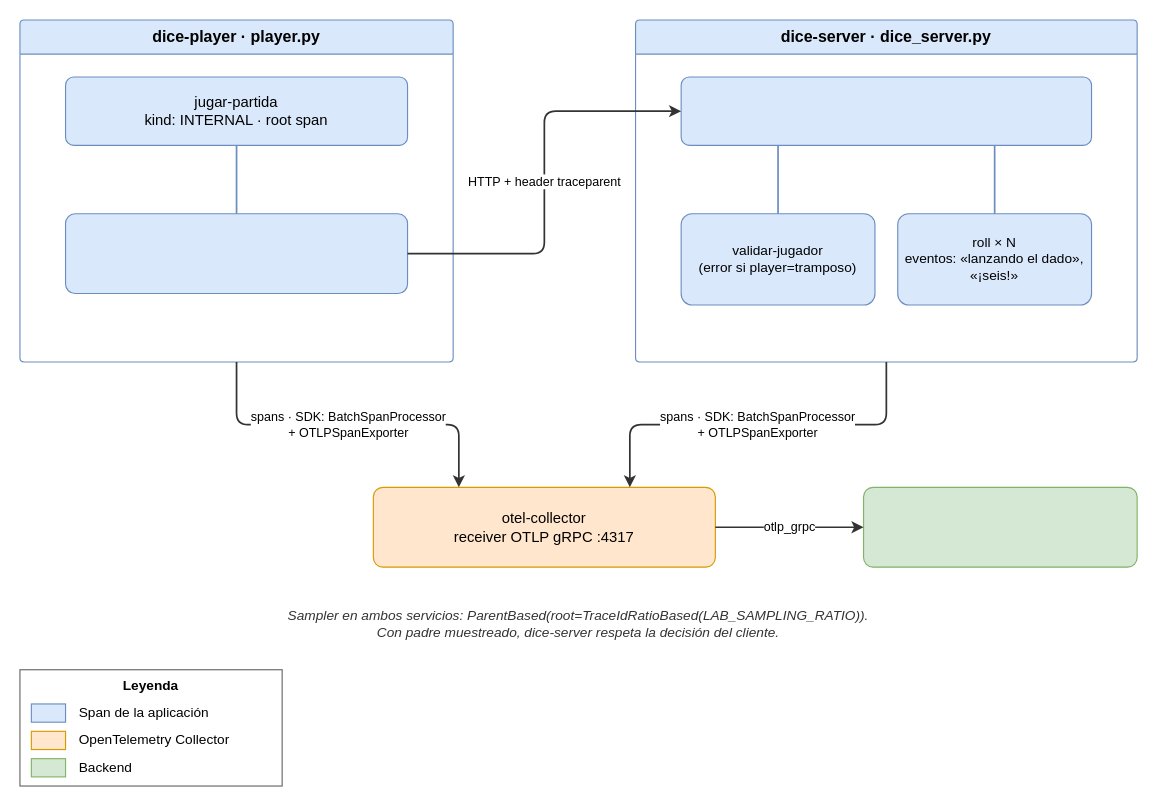
The diagram is 1157 pixels wide and 806 high, and some of its shapes have lost their labels. The centre of each missing label's shape, as x and y in pixels:
"GET /rolldice · kind: SERVER FlaskInstrumentor extrae el contexto" goes at point (886, 110).
"GET · kind: CLIENT RequestsInstrumentor inyecta traceparent" goes at point (236, 253).
"Jaeger una sola traza, mismo trace_id" goes at point (999, 526).
